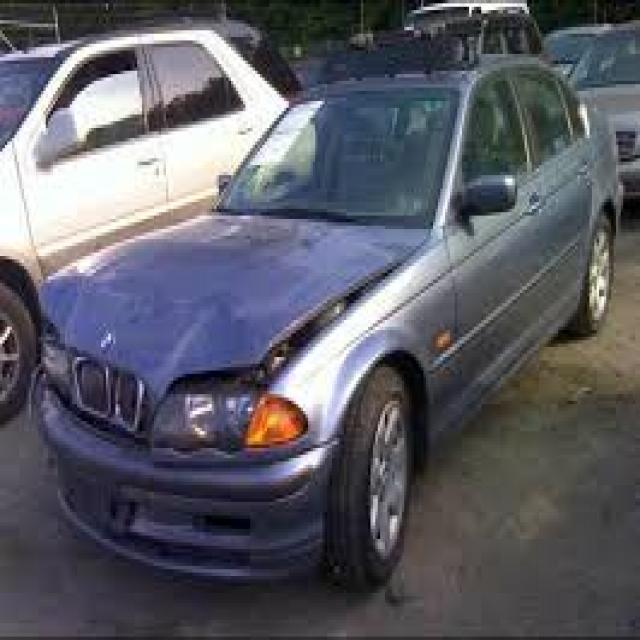moderate: (18, 199, 446, 567)
